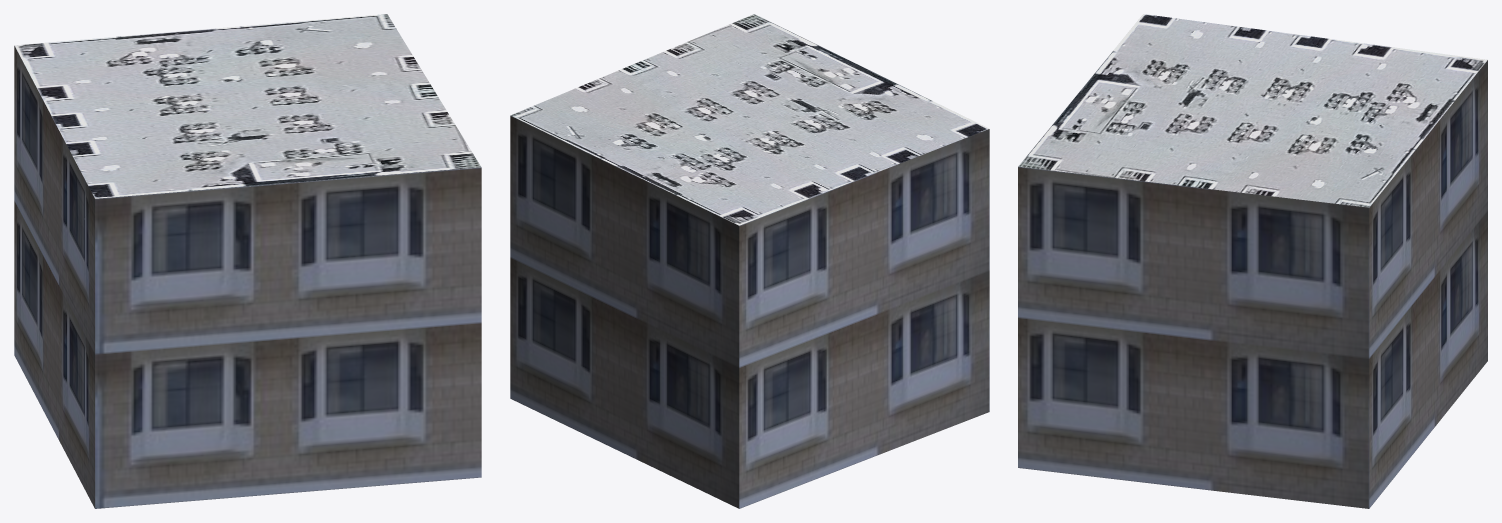
File: ResTex__2247.fbx
3 renders of one model, left to right at view 1: azimuth 30°, elevation 25°; view 2: azimuth 150°, elevation 25°; view 3: azimuth 270°, elevation 25°, orthographic. The views are drawn at different scales.
Parts seen in each view (by area): view 1: CityEngineMaterial_3_m, CityEngineMaterial_m; view 2: CityEngineMaterial_3_m, CityEngineMaterial_m; view 3: CityEngineMaterial_3_m, CityEngineMaterial_m.
Boxes of the visible parts, x1,y1,x2,y2 form: CityEngineMaterial_3_m: (14,46,481,508); CityEngineMaterial_m: (14,14,480,198); CityEngineMaterial_3_m: (510,115,989,508); CityEngineMaterial_m: (510,14,989,225); CityEngineMaterial_3_m: (1018,60,1487,508); CityEngineMaterial_m: (1018,14,1487,207).
Bounding box in the file's own units: 8.27 × 6 × 8.48.
2 materials, 2 textured.
